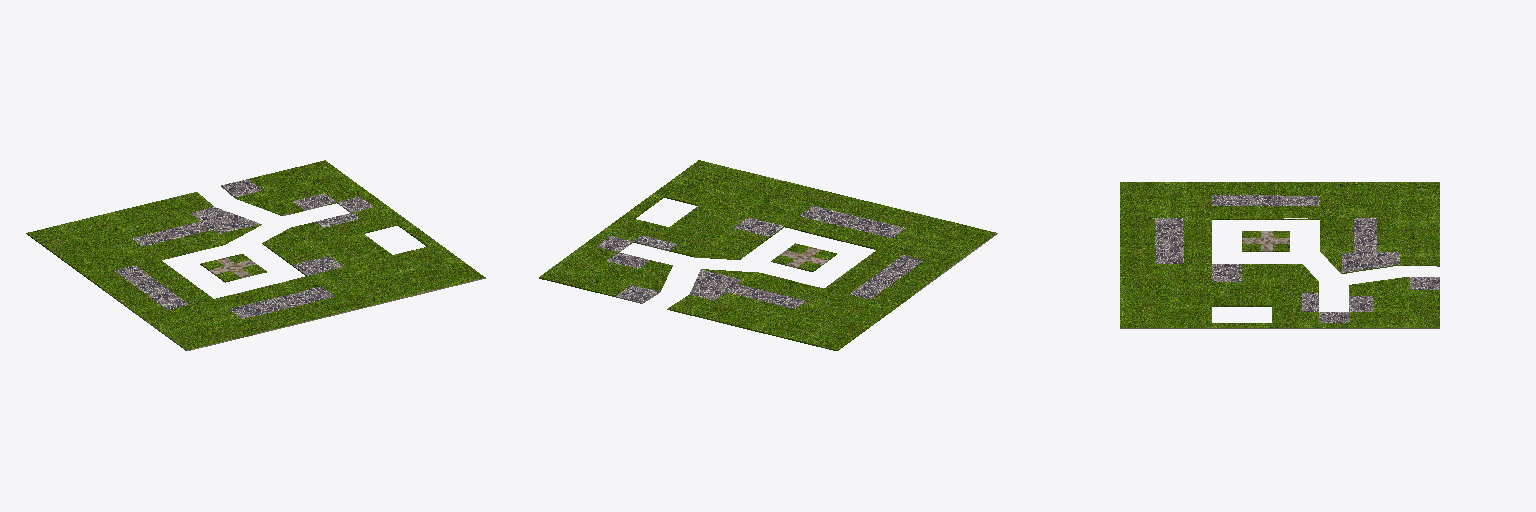
3 views of the same model, side by side, from view 1: azimuth 30°, elevation 25°; view 2: azimuth 150°, elevation 25°; view 3: azimuth 270°, elevation 25° (orthographic).
Visible parts, largest first — view 1: Cube_Cube.001; view 2: Cube_Cube.001; view 3: Cube_Cube.001.
Boxes of the visible parts, box(x1,y1,x2,y2) form: Cube_Cube.001: box(26, 160, 485, 350); Cube_Cube.001: box(539, 160, 997, 350); Cube_Cube.001: box(1120, 182, 1439, 328).
Bounding box in the file's own units: 5688 × 27.55 × 5291.
1 materials, 1 textured.